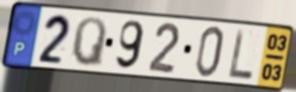0: (193, 24, 226, 79)
2: (35, 11, 73, 67), (147, 21, 182, 76)
9: (114, 18, 146, 71)
L: (227, 27, 255, 81)
Q: (70, 16, 109, 70)
